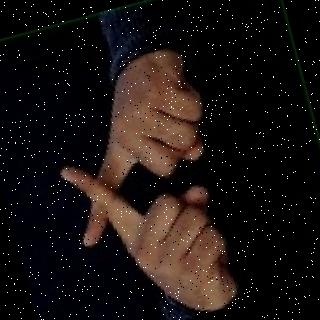X: (24, 52, 254, 320)
